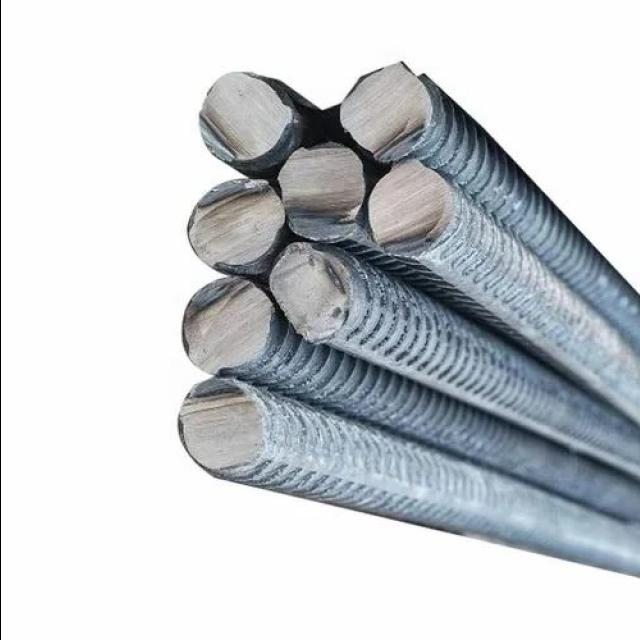Rebar: (177, 177, 289, 283), (197, 75, 305, 180), (179, 272, 283, 377), (276, 141, 374, 245), (175, 374, 268, 481), (341, 59, 436, 159), (365, 164, 459, 262), (273, 247, 359, 345)
